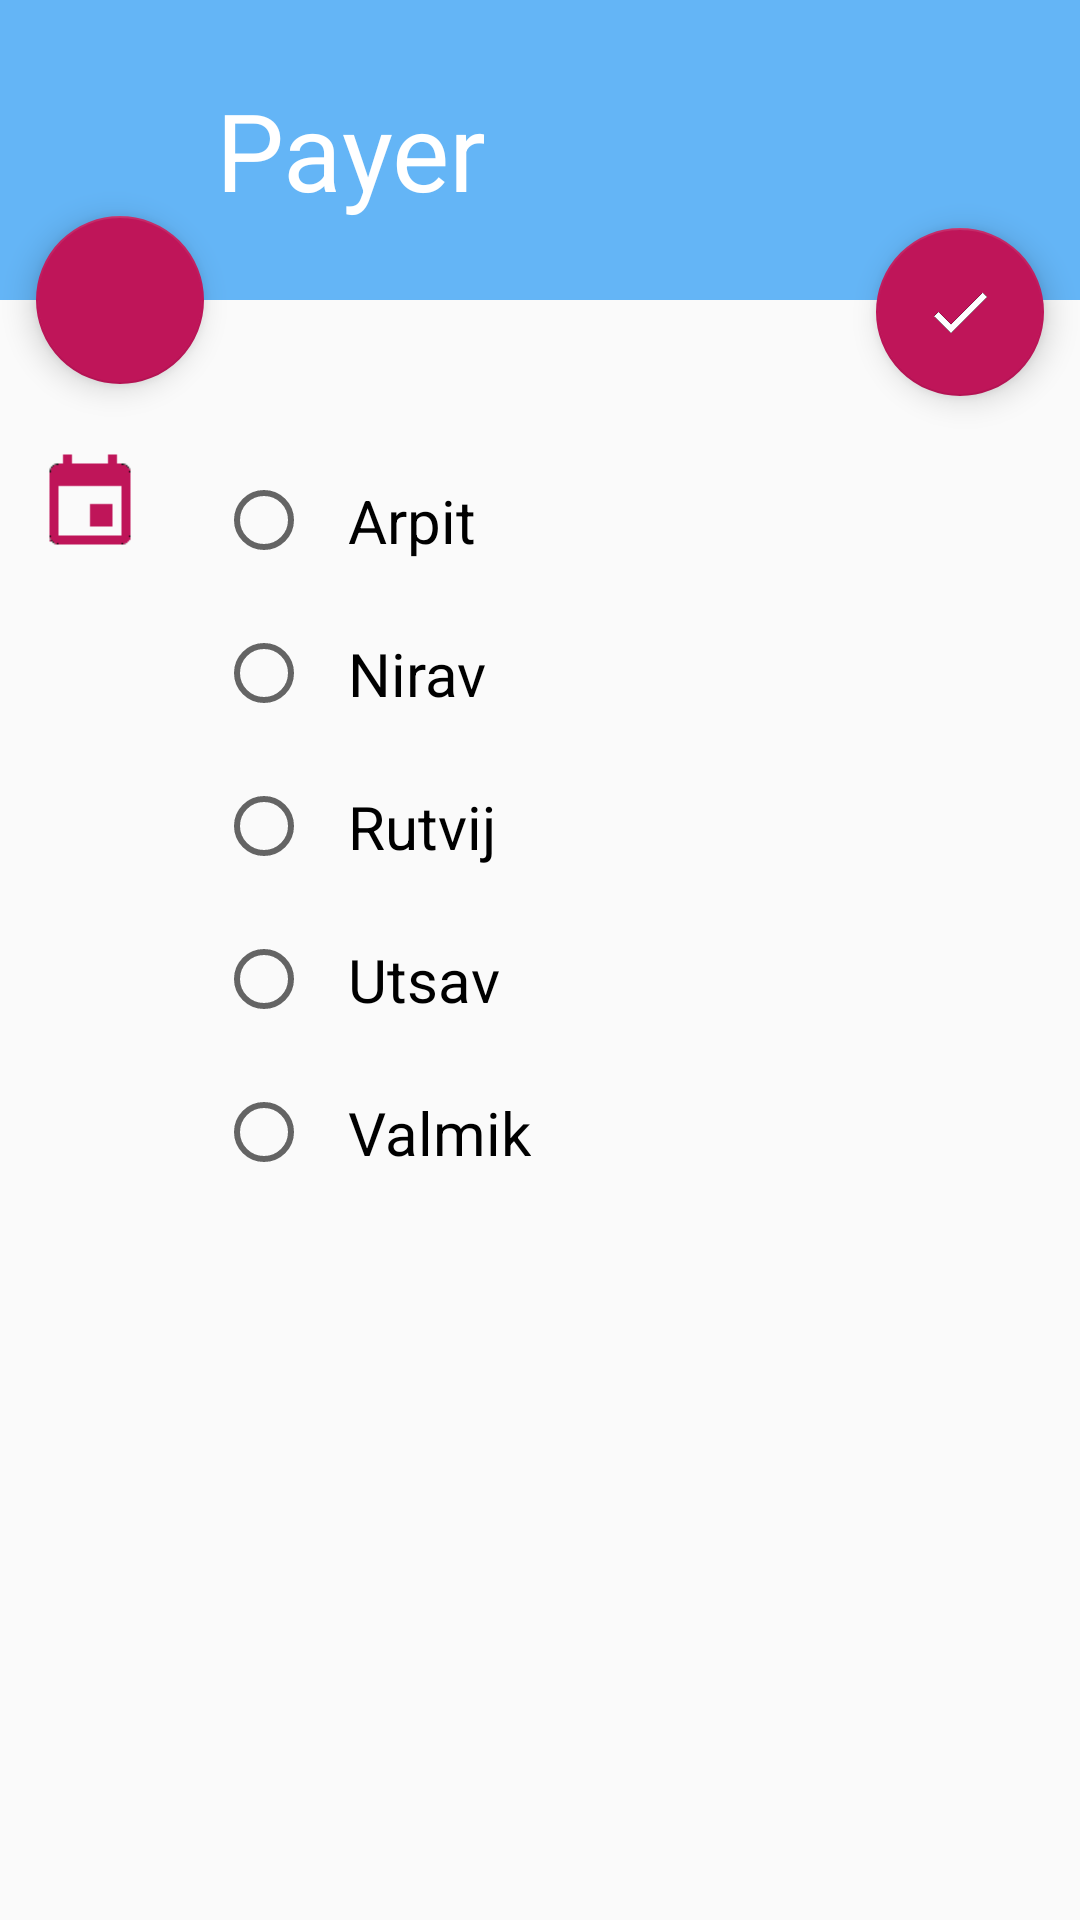

Where icons sit on this 1080px×1920px app screen, as (x1, y1, x2, y2):
date: (49, 454, 131, 545)
